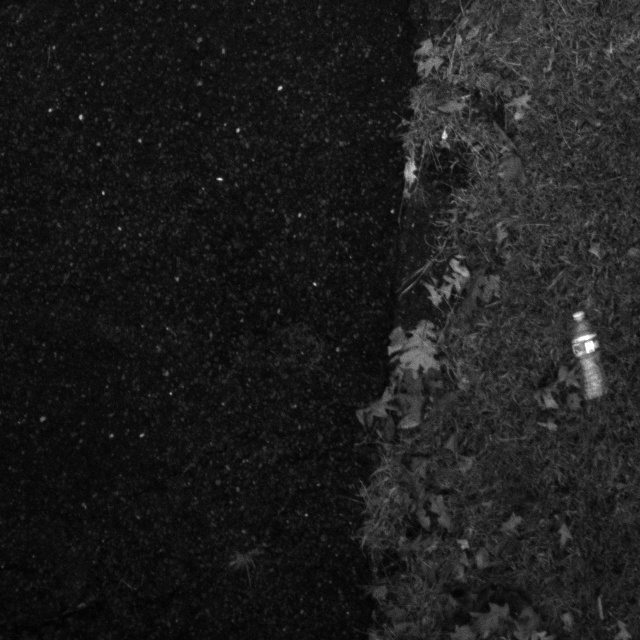bottle: (552, 303, 614, 408)
